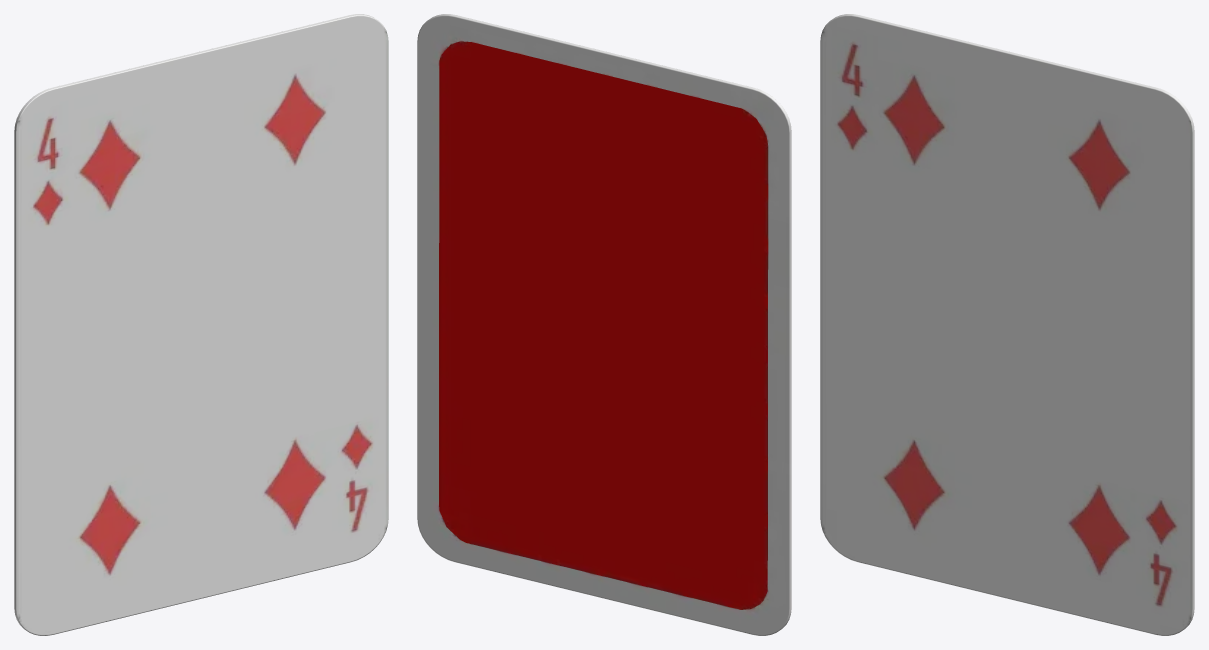
The model's file is diamonds_4-transformed.glb.
3 renders of one model, left to right at view 1: azimuth 30°, elevation 25°; view 2: azimuth 150°, elevation 25°; view 3: azimuth 330°, elevation 25°, orthographic.
Parts seen in each view (by area): view 1: defaultMaterial.032; view 2: defaultMaterial.032; view 3: defaultMaterial.032.
Boxes of the visible parts, box(x1,y1,x2,y2) form: defaultMaterial.032: box(14, 14, 388, 635); defaultMaterial.032: box(417, 14, 791, 635); defaultMaterial.032: box(820, 14, 1194, 635).
Size of the model in its own units: 0.1408 by 0.1972 by 0.00111.
1 material, 1 textured.
